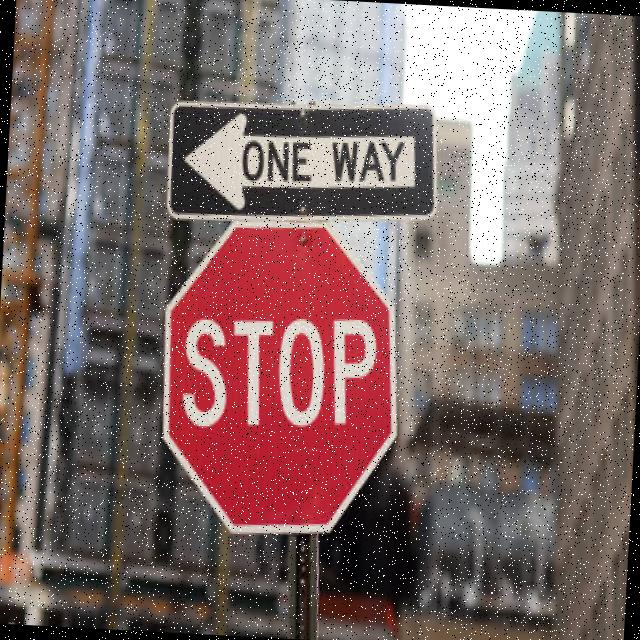stop: (140, 206, 417, 560)
